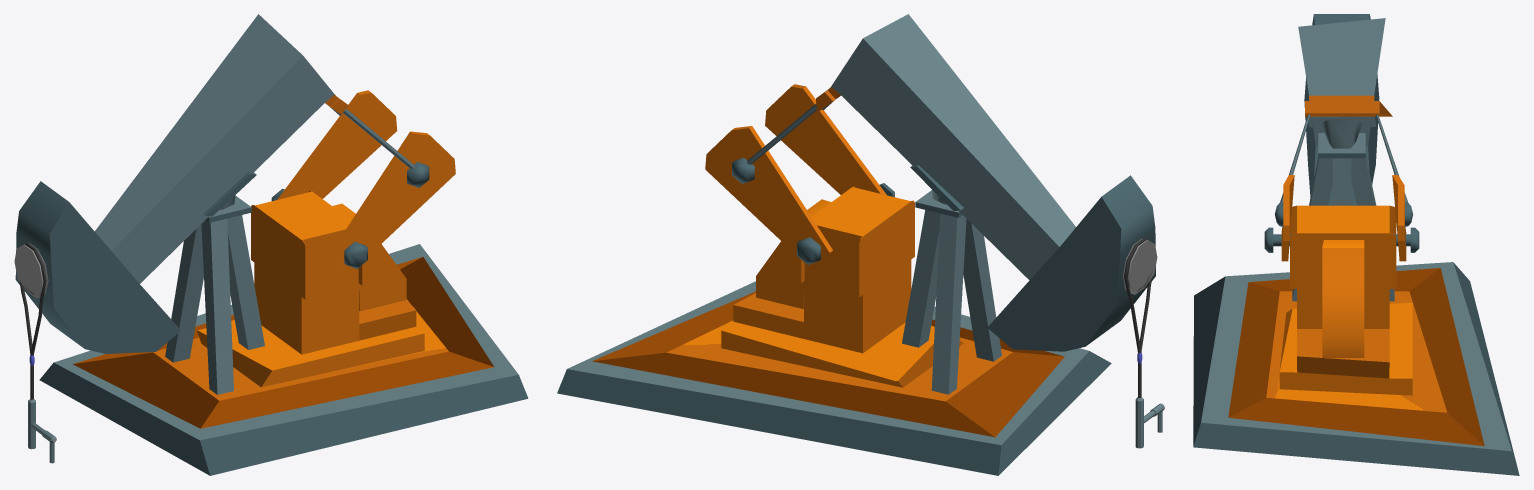
File: Oil Drill_Final.FBX
3 renders of one model, left to right at view 1: azimuth 30°, elevation 25°; view 2: azimuth 150°, elevation 25°; view 3: azimuth 270°, elevation 25°, orthographic. The views are drawn at different scales.
Visible parts, largest first — view 1: pCube1, pCube6, Cylinder001; view 2: pCube1, pCube6, Cylinder001; view 3: pCube1, pCube6.
Boxes of the visible parts, x1=… form: pCube1: x1=39, y1=90, x2=528, y2=475; pCube6: x1=15, y1=14, x2=414, y2=353; Cylinder001: x1=14, y1=243, x2=56, y2=463; pCube1: x1=557, y1=84, x2=1111, y2=475; pCube6: x1=747, y1=14, x2=1155, y2=351; Cylinder001: x1=1123, y1=238, x2=1164, y2=448; pCube1: x1=1193, y1=116, x2=1519, y2=475; pCube6: x1=1280, y1=14, x2=1407, y2=205.
Bounding box in the file's own units: 34.4 × 24.17 × 20.5.
3 materials, 3 textured.
